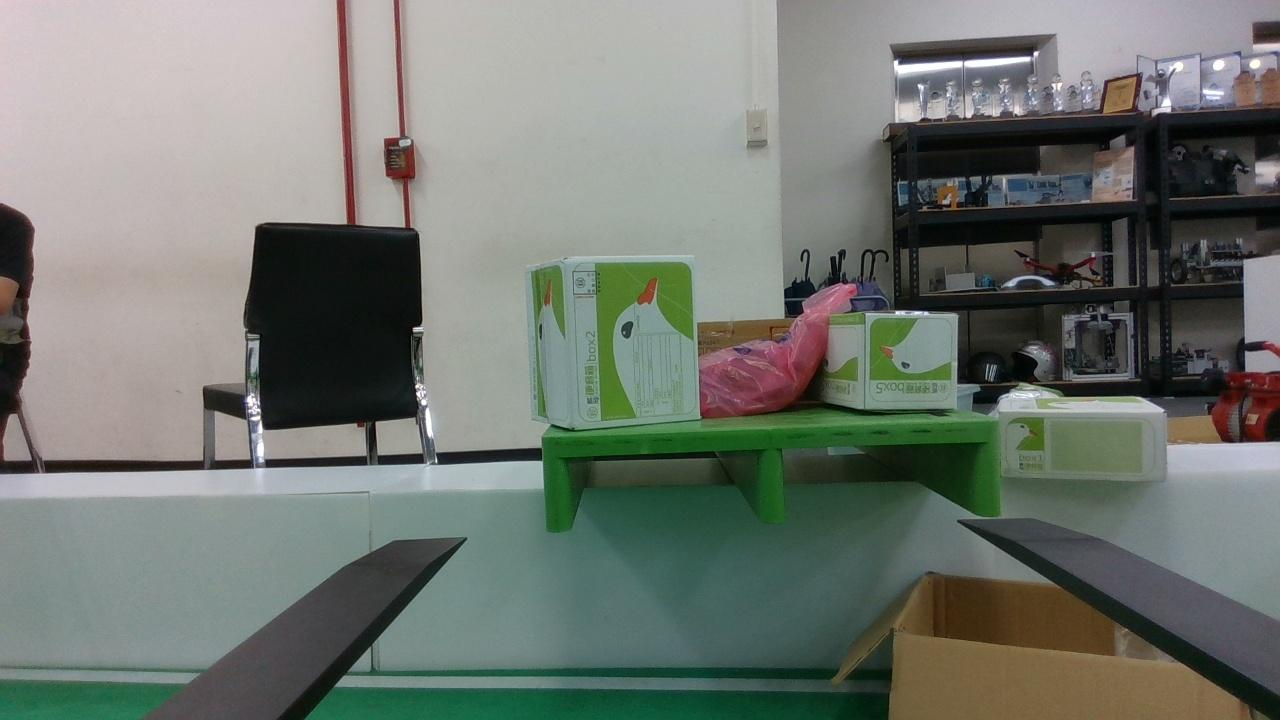Pallet: (543, 421, 1000, 528)
